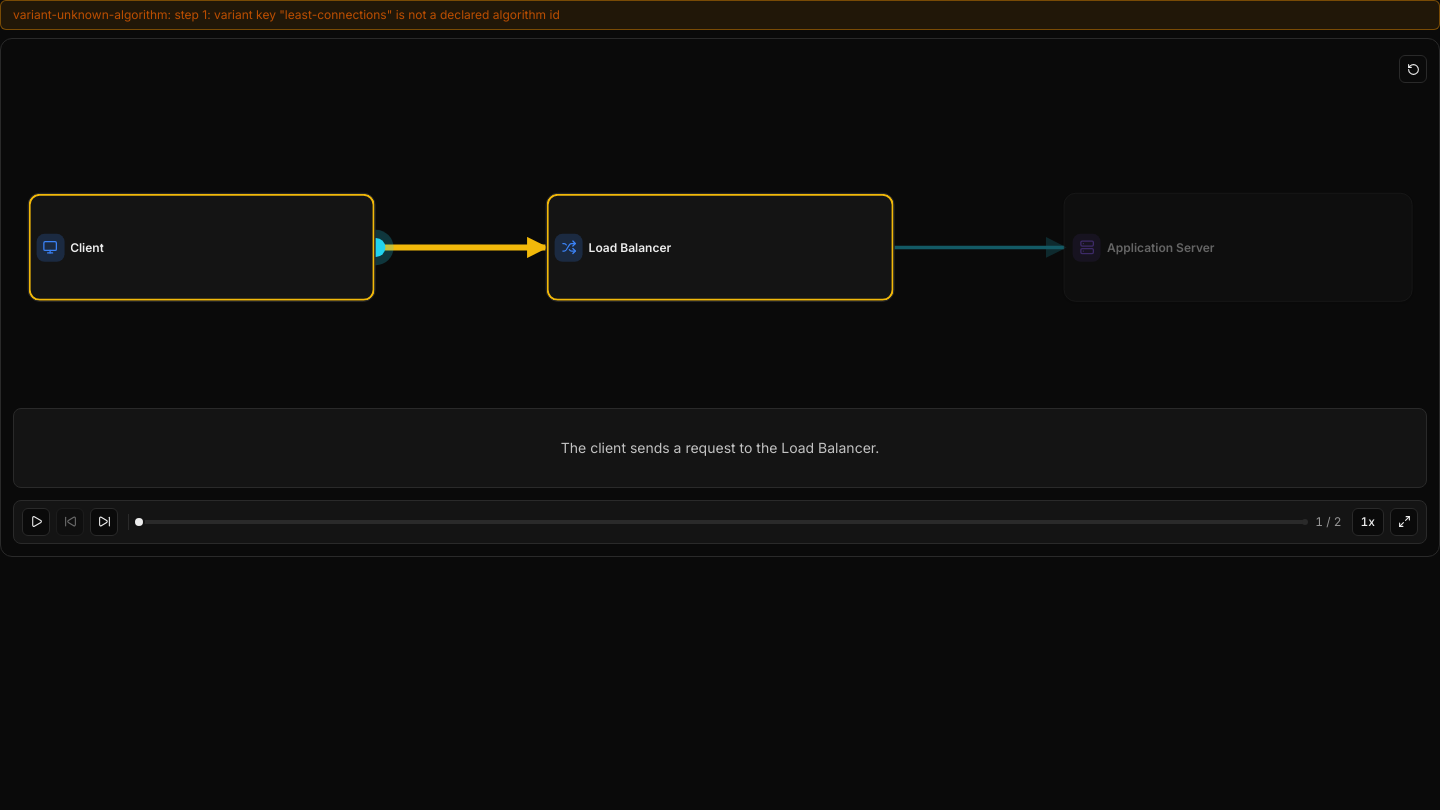
Test case: Walkthrough › autoplays to the next step and stops at the end
Click the button named "play walkthrough". click: [36, 522]
box: 22,508 -> 50,536
Wait 3600 ms
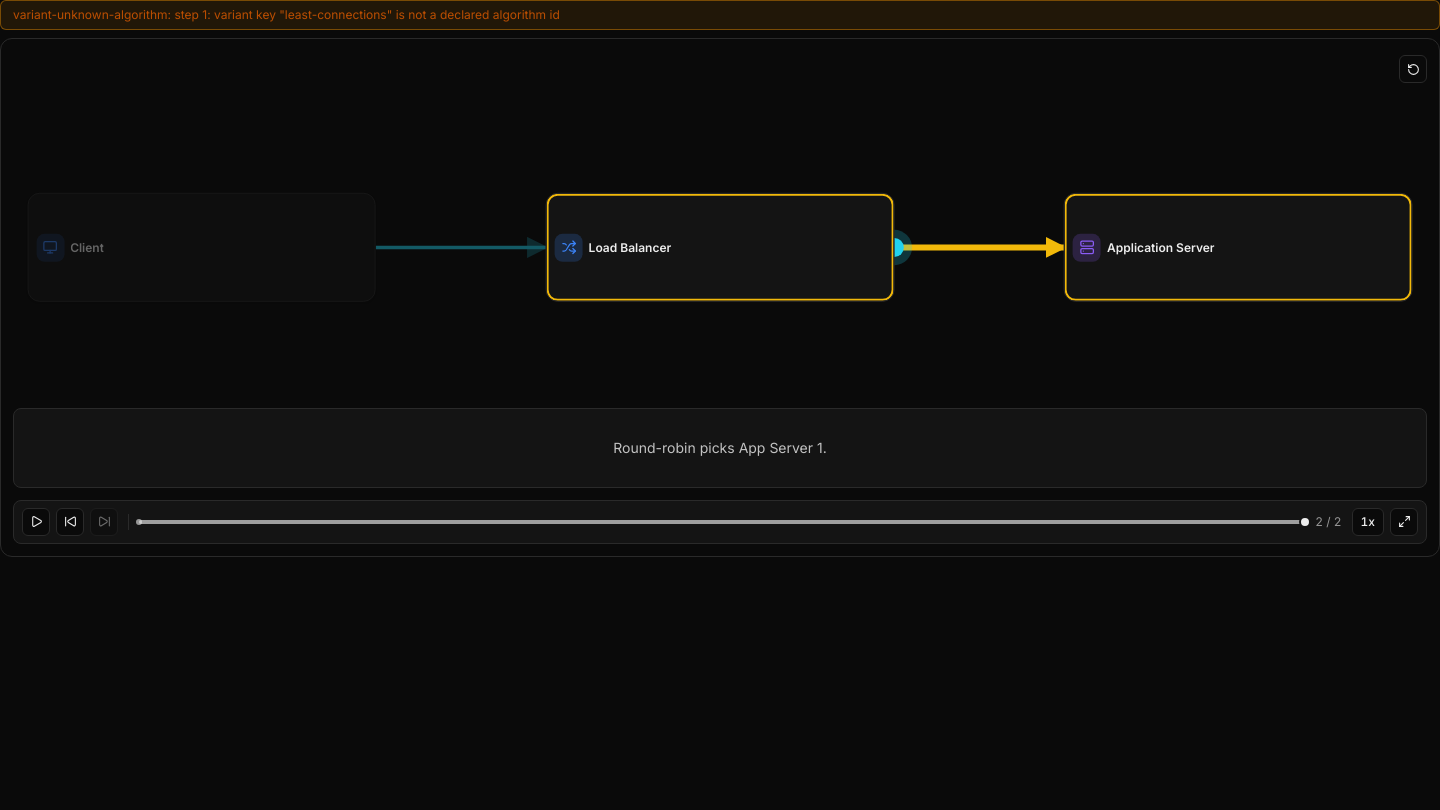
Expected: the text "2 / 2" is shown, 1315,514 -> 1342,529
